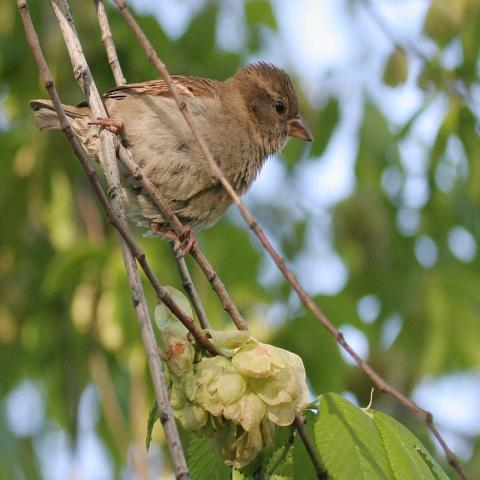bird: (28, 58, 315, 260)
